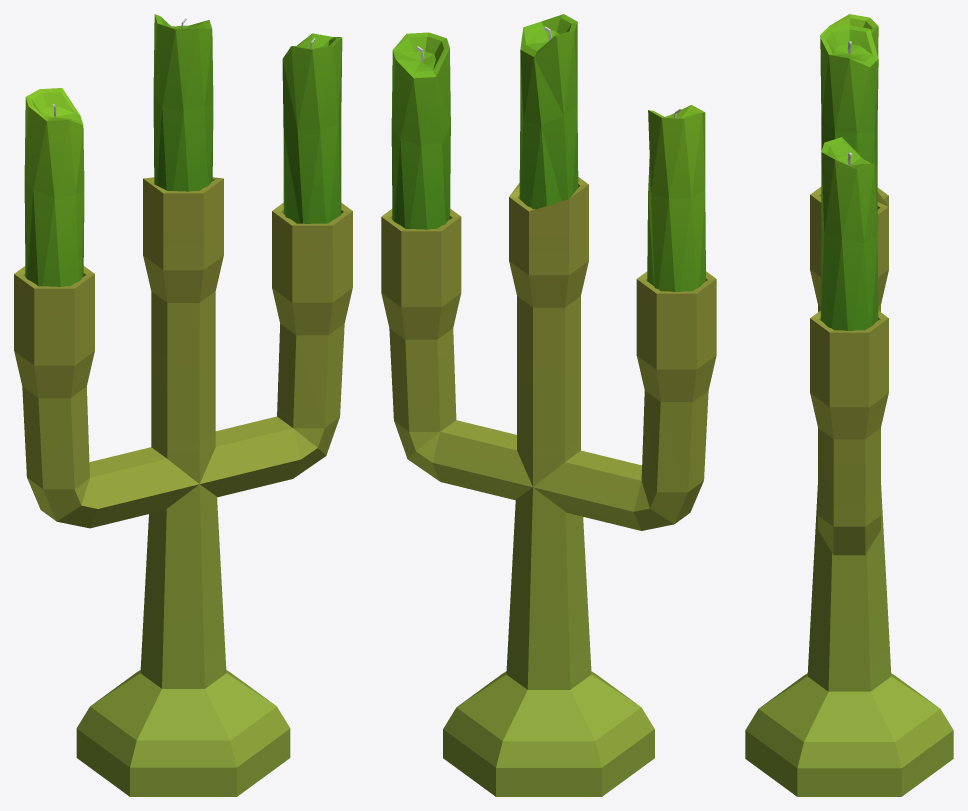
File: candle2.glb
3 renders of one model, left to right at view 1: azimuth 30°, elevation 25°; view 2: azimuth 150°, elevation 25°; view 3: azimuth 270°, elevation 25°, orthographic. The views are drawn at different scales.
Parts seen in each view (by area): view 1: Candle2; view 2: Candle2; view 3: Candle2.
Part boxes in pixels (x1,y1,x2,y2): Candle2: (14, 14, 352, 796); Candle2: (381, 14, 716, 796); Candle2: (745, 14, 953, 796).
Bounding box in the file's own units: 0.2636 × 0.5856 × 0.1533.
1 material, 1 textured.
